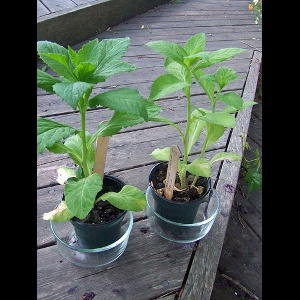flowerpot: (61, 174, 131, 251), (146, 157, 212, 233)
